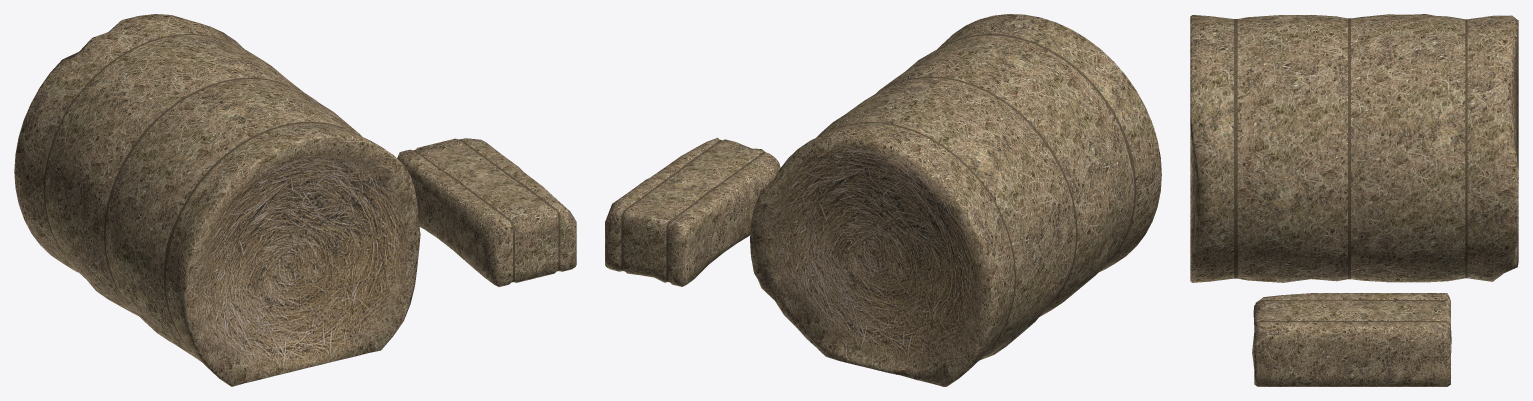
File: hay1.glb
3 views of the same model, side by side, from view 1: azimuth 30°, elevation 25°; view 2: azimuth 150°, elevation 25°; view 3: azimuth 270°, elevation 25° (orthographic). The views are drawn at different scales.
Visible parts, largest first — view 1: Cylinder_0, Cube_1; view 2: Cylinder_0, Cube_1; view 3: Cylinder_0, Cube_1.
Boxes of the visible parts, bbox=[...] form: Cylinder_0: bbox=[14, 14, 420, 386]; Cube_1: bbox=[397, 138, 576, 286]; Cylinder_0: bbox=[750, 14, 1161, 386]; Cube_1: bbox=[605, 137, 780, 286]; Cylinder_0: bbox=[1190, 14, 1518, 282]; Cube_1: bbox=[1252, 293, 1451, 386].
Bounding box in the file's own units: 3.55 × 1.81 × 2.42.
1 material, 1 textured.
